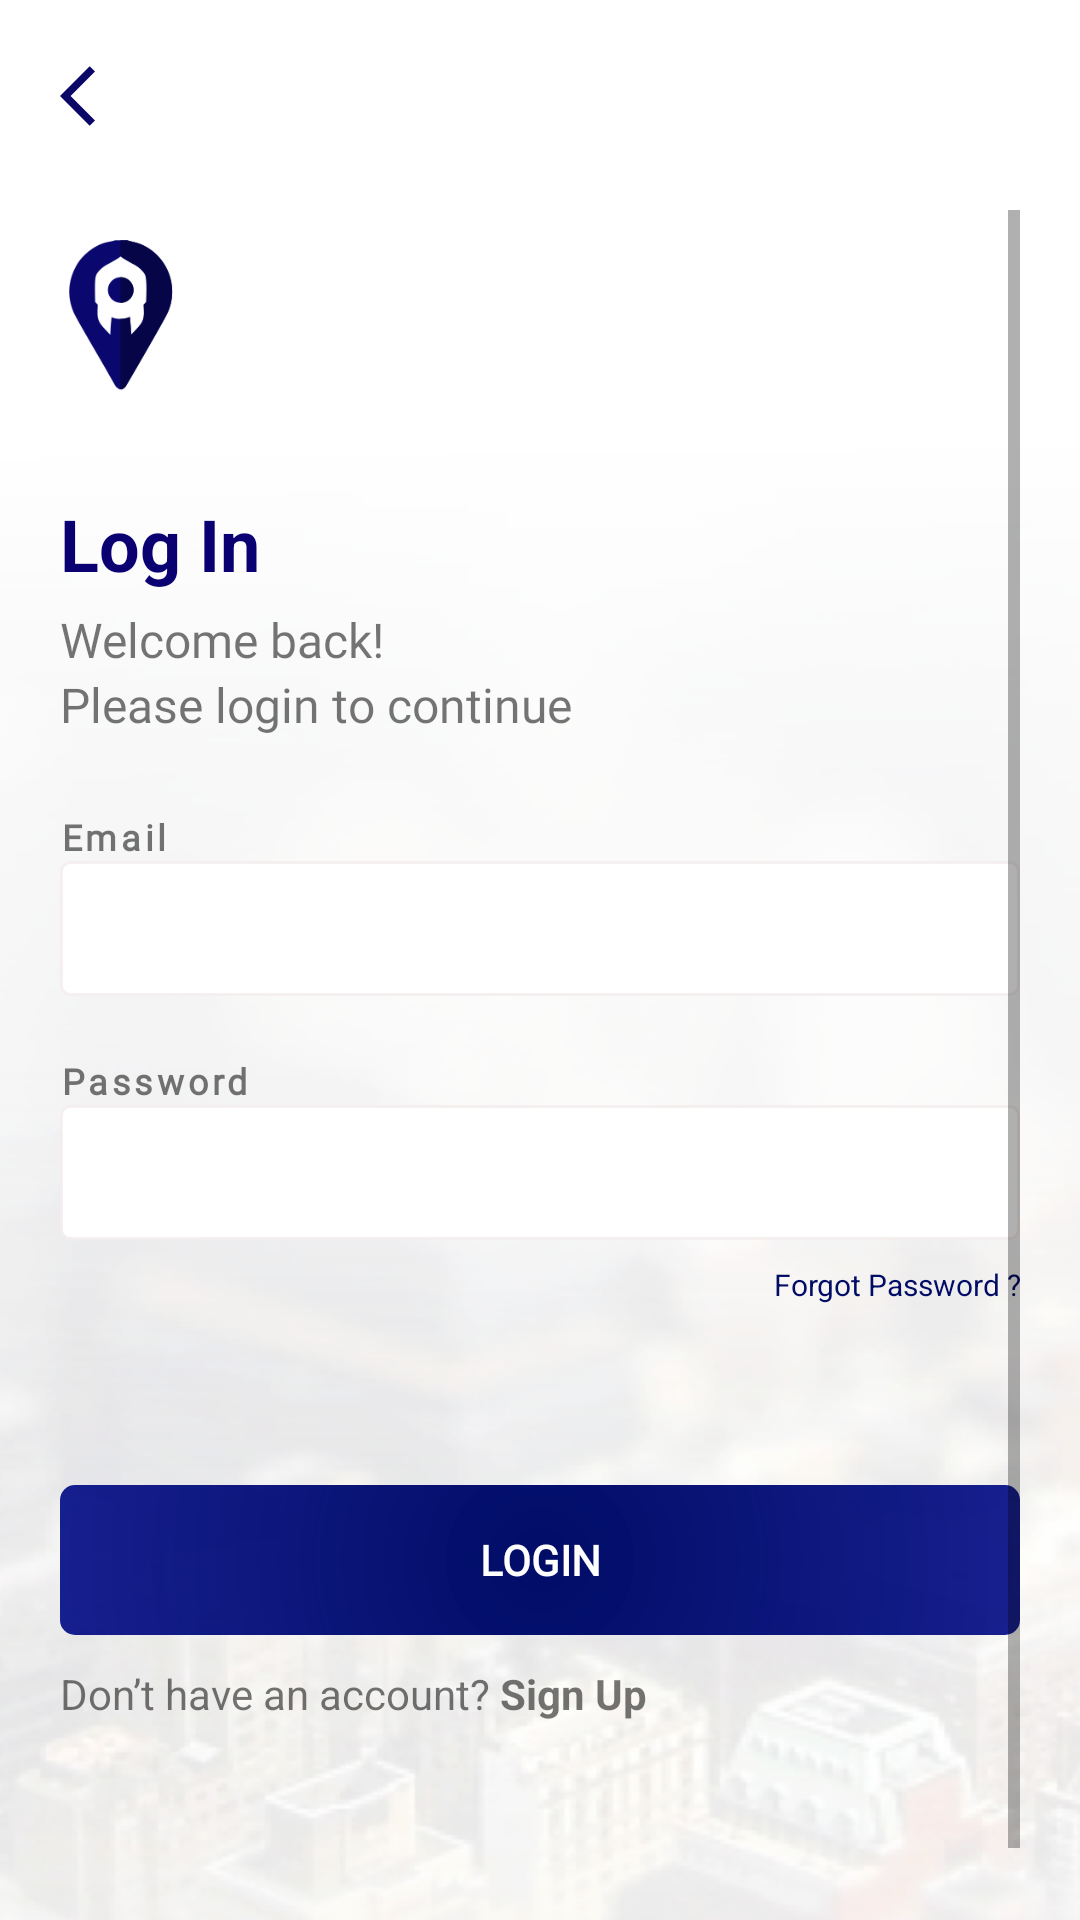

Icons on this 1080×1920 Android screen, each with the point to tap as (x,y):
back: (77,96)
